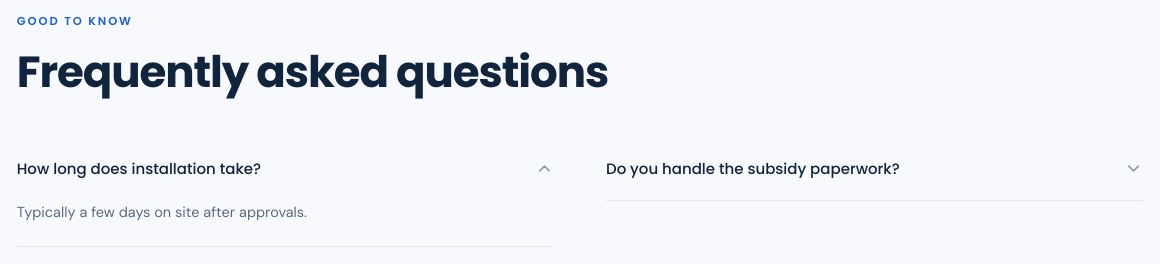
Scenario: Faq accordion › opens the first item by default and toggles on click
Expected: the text "Typically a few days on site after approvals." is shown, top-left (17, 203), bottom-right (307, 221)
Click the button "Do you handle the subsidy paperwork?".
click(875, 168)  # box top-left (606, 137), bottom-right (1143, 200)
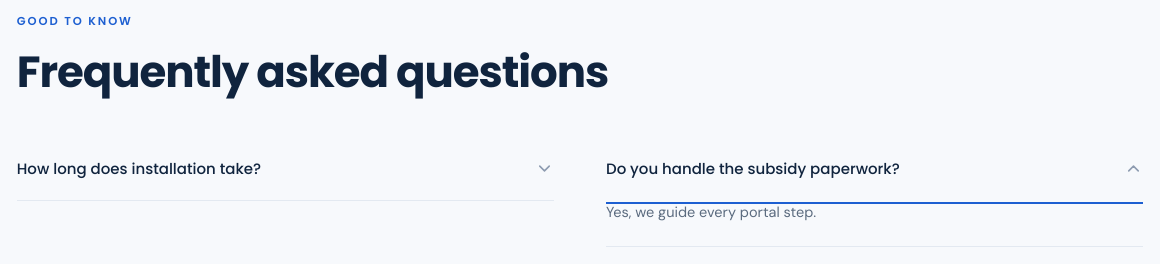
Now the button "Do you handle the subsidy paperwork?" is expanded
Now the button "How long does installation take?" is collapsed, box top-left (17, 137), bottom-right (554, 200)
Click the button "Do you handle the subsidy paperwork?".
click(875, 168)  # box top-left (606, 137), bottom-right (1143, 200)
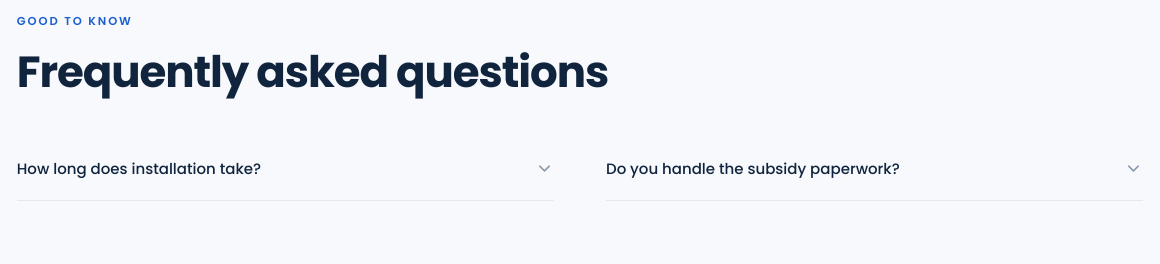
Now the button "Do you handle the subsidy paperwork?" is collapsed, box top-left (606, 137), bottom-right (1143, 200)
